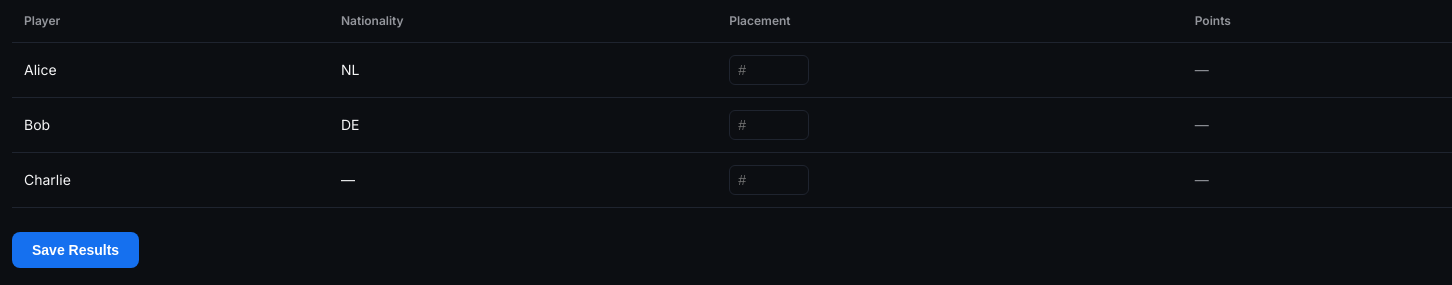
Test: ResultsEntryForm › shows error when saving with no placements
Click the button "Save Results" at [76, 250], box [12, 232, 139, 268]
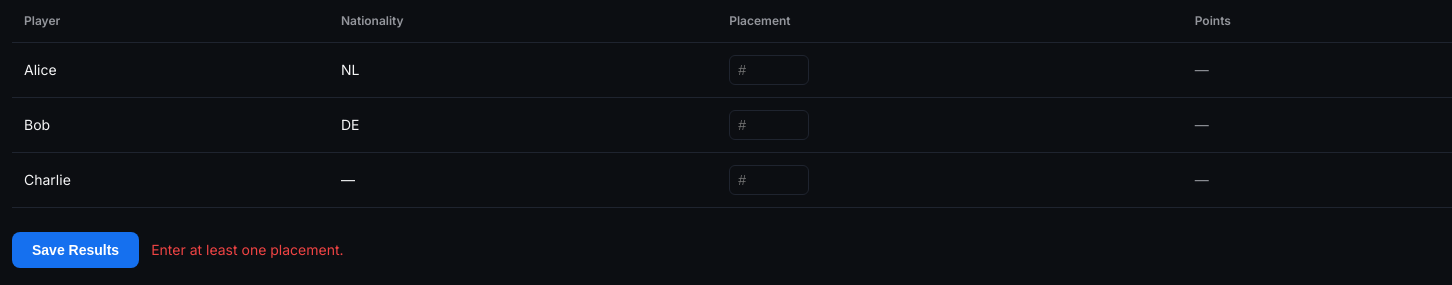
Result: the text "Enter at least one placement." is shown at [151, 239, 344, 261]
